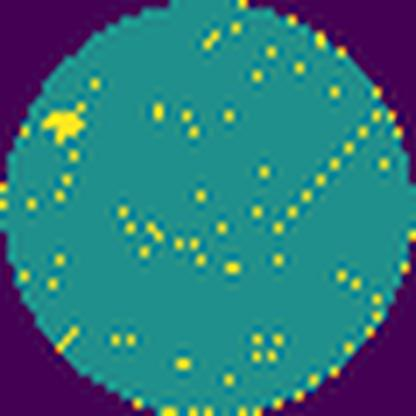Loc: (44, 106, 86, 144)
